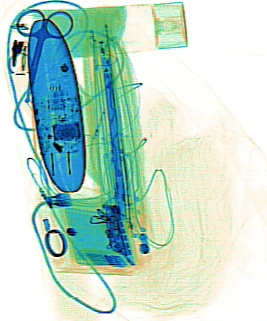scissors: (14, 7, 74, 92)
